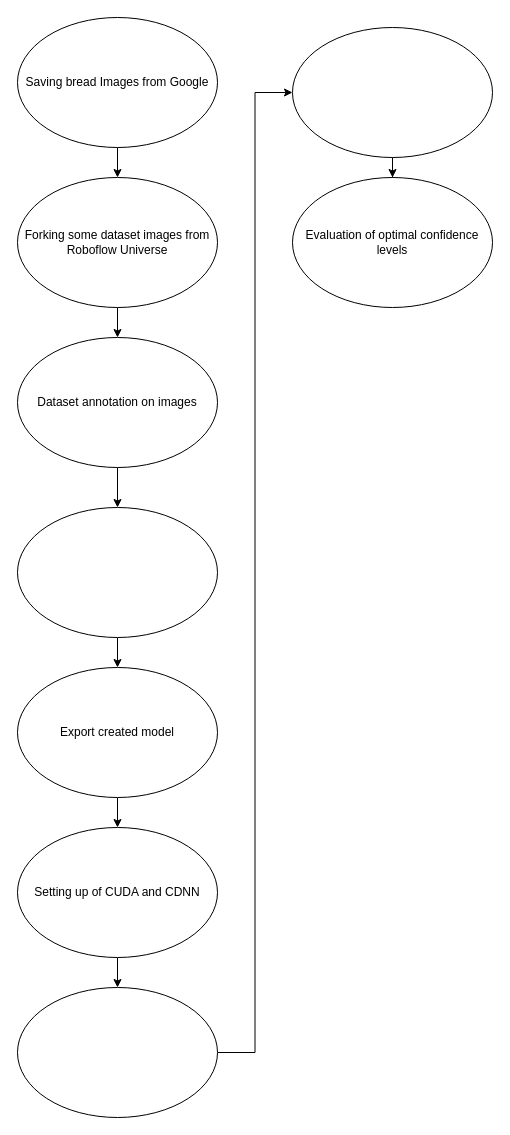
Image size: 510x1135. Some labels were removed from this diagram. Here are the shapes that lost their labels. From the top down, the centre of each, then its label:
At (x=392, y=92): "Implementation of test cases for different bread types".
At (x=117, y=572): "Dataset Creation using Roboflow".
At (x=117, y=1052): "Training of Model using Yolov8 medium-scale model with GPU via Python Script".
